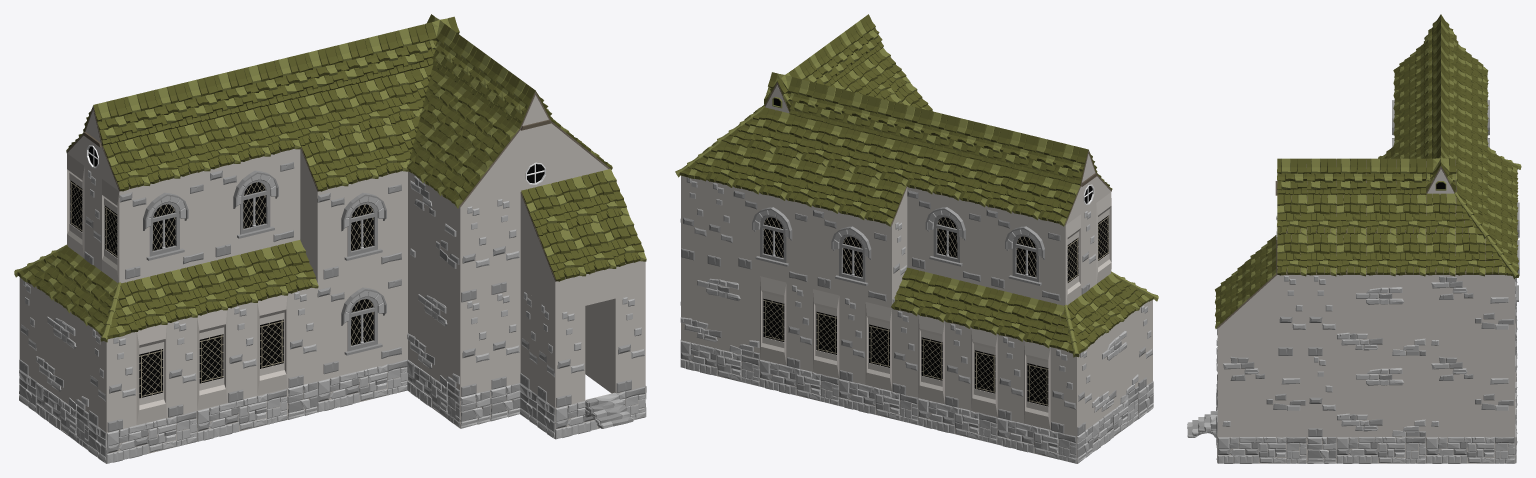
The model's file is HOUSE_10_PARTS.fbx.
3 renders of one model, left to right at view 1: azimuth 30°, elevation 25°; view 2: azimuth 150°, elevation 25°; view 3: azimuth 270°, elevation 25°, orthographic. The views are drawn at different scales.
Parts seen in each view (by area): view 1: WINDOW_03_5, WINDOW_03_2, WINDOW_03_3, WINDOW_03_4, WALL_03_3, WALL_03_4, WALL_01_2, WALL_06_7, WALL_06_16, WALL_06_6, WALL_06_17, WALL_06_9 (+90 smaller); view 2: WINDOW_03_9, WALL_03_5, WINDOW_03_8, WINDOW_03_6, WINDOW_03_7, WALL_03_4, FOUNDATION_03_11, FOUNDATION_03_12, FOUNDATION_03_10, WALL_06_24, FOUNDATION_03_9, WALL_06_23 (+70 smaller); view 3: WALL_01_4, WALL_03_2, WALL_01_3, WALL_03_6, WALL_01_6, FOUNDATION_03_14, FOUNDATION_03_15, FOUNDATION_03_13, WALL_06_25, WALL_06_29, WALL_06_30, ROOF_BASE_45 (+61 smaller).
Part boxes in pixels (left/top/right/bottom): WINDOW_03_5: left=317, top=264, right=407, bottom=380; WINDOW_03_2: left=316, top=171, right=407, bottom=285; WINDOW_03_3: left=209, top=149, right=300, bottom=262; WINDOW_03_4: left=119, top=171, right=209, bottom=283; WALL_03_3: left=407, top=264, right=460, bottom=396; WALL_03_4: left=36, top=288, right=89, bottom=419; WALL_01_2: left=408, top=171, right=460, bottom=302; WALL_06_7: left=554, top=306, right=585, bottom=407; WALL_06_16: left=490, top=193, right=520, bottom=294; WALL_06_6: left=460, top=200, right=490, bottom=302; WALL_06_17: left=490, top=288, right=520, bottom=389; WALL_06_9: left=460, top=295, right=490, bottom=396; WINDOW_03_9: left=733, top=187, right=812, bottom=288; WALL_03_5: left=680, top=257, right=759, bottom=358; WINDOW_03_8: left=813, top=206, right=891, bottom=308; WINDOW_03_6: left=986, top=206, right=1065, bottom=305; WINDOW_03_7: left=907, top=187, right=986, bottom=287; WALL_03_4: left=1092, top=310, right=1138, bottom=424; FOUNDATION_03_11: left=918, top=397, right=997, bottom=444; FOUNDATION_03_12: left=997, top=417, right=1076, bottom=463; FOUNDATION_03_10: left=839, top=378, right=918, bottom=424; WALL_06_24: left=839, top=295, right=865, bottom=384; FOUNDATION_03_9: left=760, top=359, right=839, bottom=405; WALL_06_23: left=786, top=282, right=812, bottom=371; WALL_01_4: left=1426, top=355, right=1515, bottom=436; WALL_03_2: left=1336, top=355, right=1425, bottom=436; WALL_01_3: left=1217, top=355, right=1306, bottom=436; WALL_03_6: left=1336, top=275, right=1425, bottom=355; WALL_01_6: left=1426, top=275, right=1515, bottom=355; FOUNDATION_03_14: left=1336, top=436, right=1425, bottom=463; FOUNDATION_03_15: left=1217, top=436, right=1306, bottom=463; FOUNDATION_03_13: left=1426, top=436, right=1515, bottom=463; WALL_06_25: left=1307, top=355, right=1336, bottom=436; WALL_06_29: left=1307, top=275, right=1336, bottom=355; WALL_06_30: left=1277, top=275, right=1306, bottom=355; ROOF_BASE_45: left=1366, top=233, right=1396, bottom=276.
Size of the model in its own units: 1541 by 1016 by 1122.
